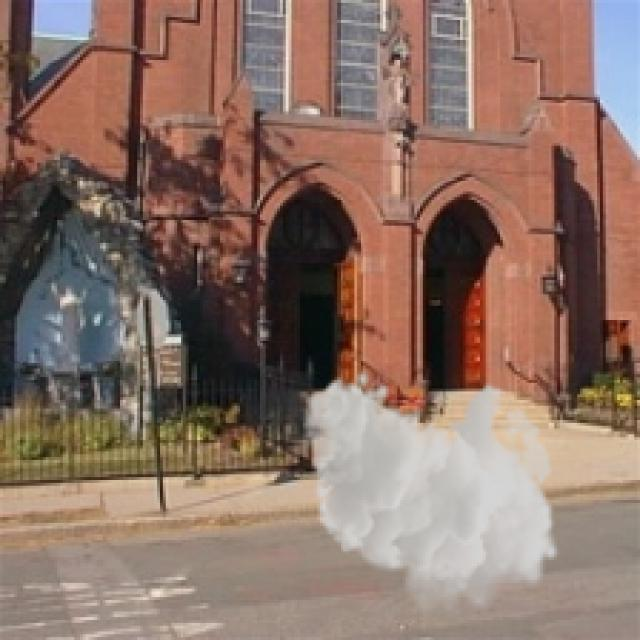smoke: (303, 369, 560, 620)
